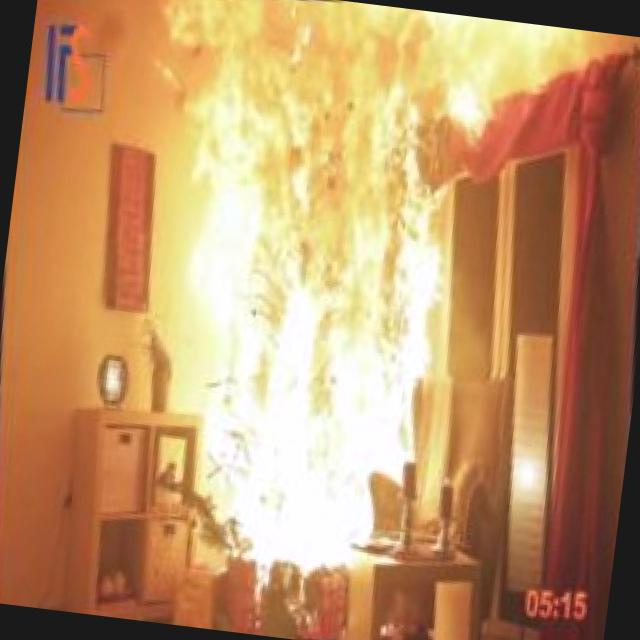fire: (71, 0, 560, 618)
